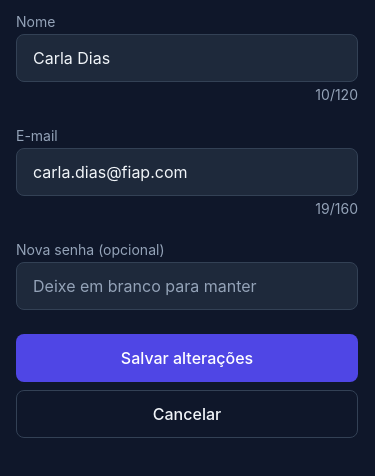
edição › recusa uma senha nova curta demais
The image size is (375, 476).
Check: the field named "Nome" holds "Carla Dias", box [16,34,358,82]
Type "123" into the password field named "Nova senha (opcional)".
click(187, 286); type("123")  # box [16,262,358,310]
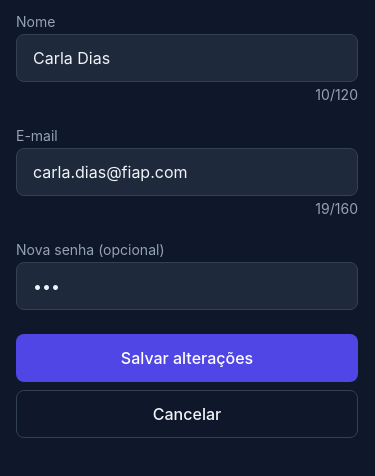
Click the button "Salvar alterações".
click(187, 358)  # box [16,334,358,382]
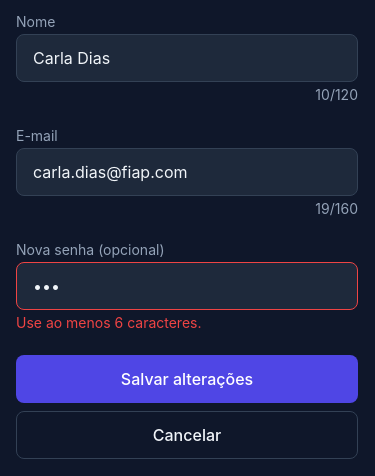
Check: the text "Use ao menos 6 caracteres." is shown, box [16,314,202,331]
